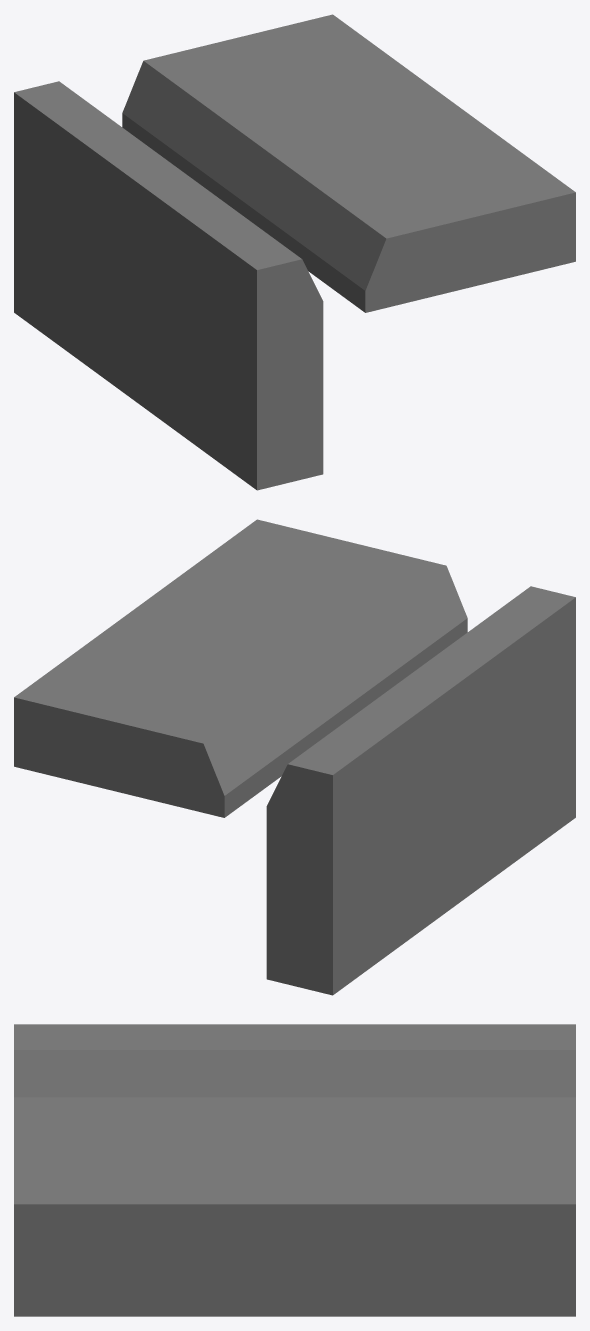
File: У10_Кромки.glb
The picture shows the model from 3 angles, top to bottom: view 1: azimuth 30°, elevation 25°; view 2: azimuth 150°, elevation 25°; view 3: azimuth 270°, elevation 25°; orthographic projection. The views are drawn at different scales.
Visible parts, largest first — view 1: node_id3; view 2: node_id3; view 3: node_id3.
Part boxes in pixels (x1,y1,x2,y2): node_id3: [14, 14, 575, 490]; node_id3: [14, 519, 575, 995]; node_id3: [14, 1024, 575, 1316].
Size of the model in its own units: 0.512 by 0.3381 by 0.6761.
1 material, 1 textured.
